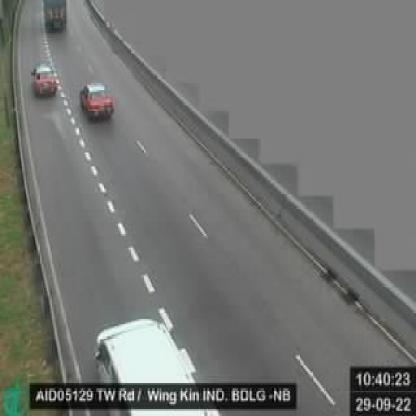Car: (89, 314, 206, 414), (77, 82, 118, 123), (25, 60, 61, 98)
Truck: (38, 0, 67, 35)
